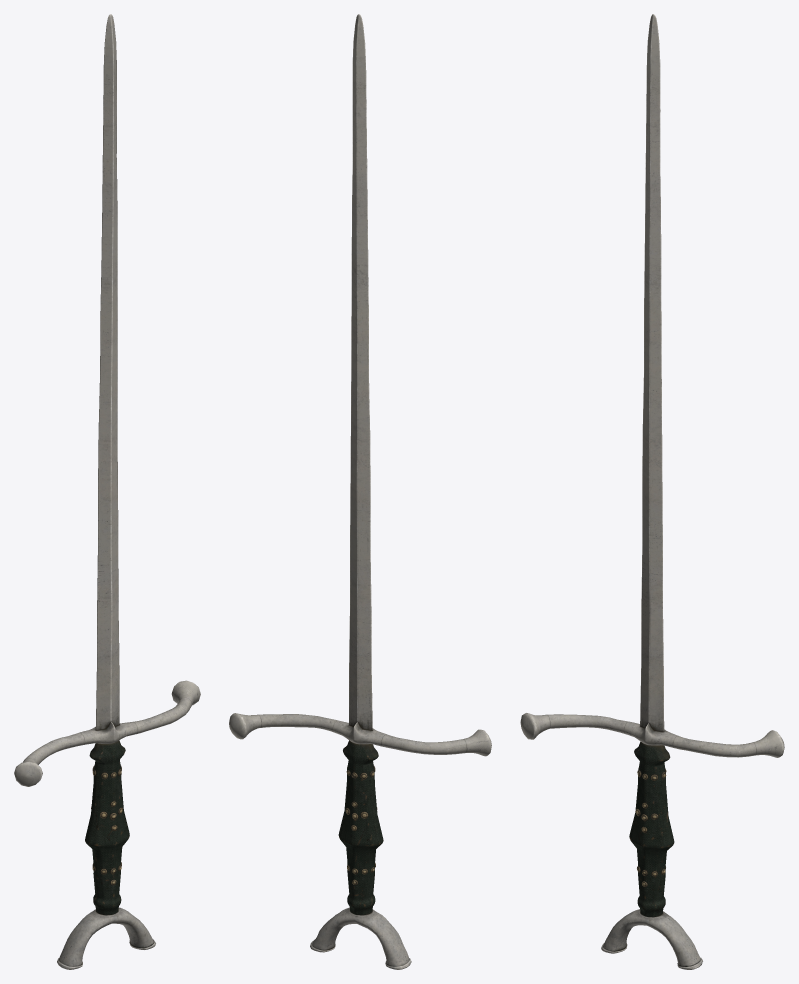
The model's file is sword.glb.
3 views of the same model, side by side, from view 1: azimuth 30°, elevation 25°; view 2: azimuth 150°, elevation 25°; view 3: azimuth 330°, elevation 25° (orthographic).
Visible parts, largest first — view 1: antique_estoc; view 2: antique_estoc; view 3: antique_estoc.
Boxes of the visible parts, bbox=[...] form: antique_estoc: bbox=[14, 14, 200, 969]; antique_estoc: bbox=[229, 14, 491, 969]; antique_estoc: bbox=[520, 14, 784, 969].
Size of the model in its own units: 0.2739 by 1.1 by 0.1099.
Materials: 1 (1 with a texture image).
